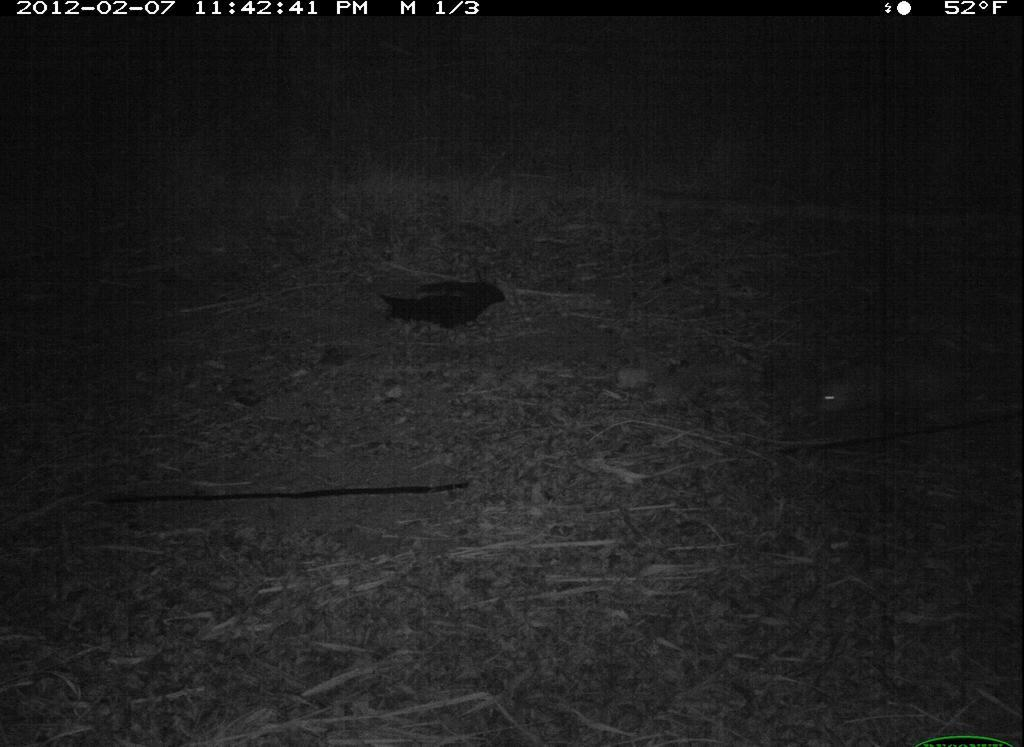opossum: (794, 332, 968, 441)
